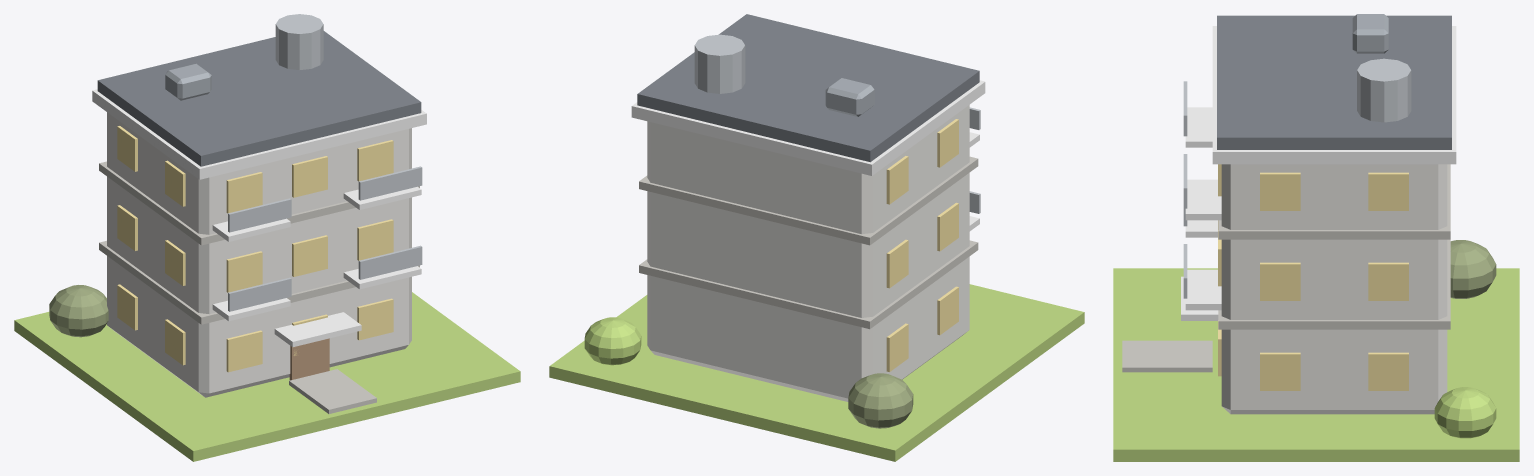
The model's file is house_2.glb.
The picture shows the model from 3 angles, left to right: view 1: azimuth 30°, elevation 25°; view 2: azimuth 150°, elevation 25°; view 3: azimuth 270°, elevation 25°; orthographic projection. The views are drawn at different scales.
Visible parts, largest first — view 1: main; view 2: main; view 3: main.
Boxes of the visible parts, box(x1,y1,x2,y2) form: main: box(14, 14, 520, 461); main: box(549, 14, 1084, 461); main: box(1113, 14, 1519, 461).
Size of the model in its own units: 0.95 by 0.82 by 0.9.
